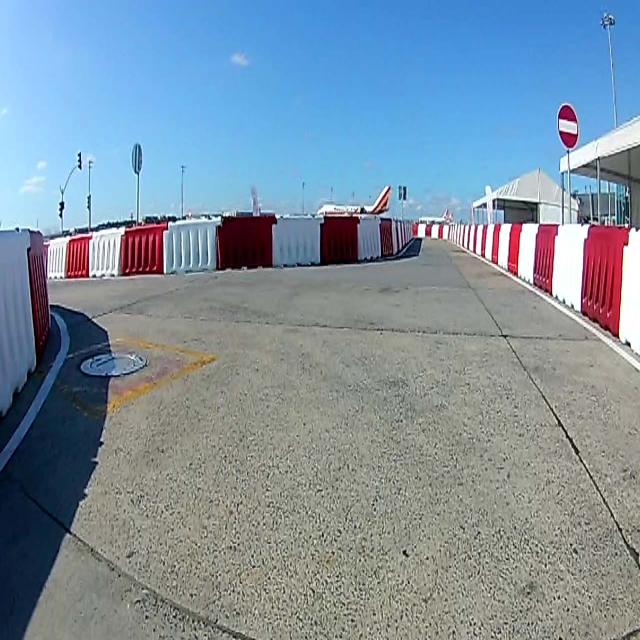girisyok: (557, 102, 579, 150)
